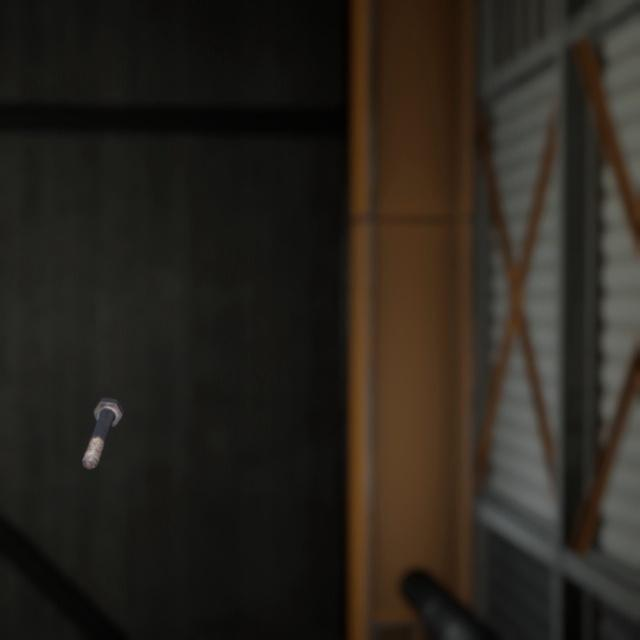bolt: (77, 374, 128, 453)
